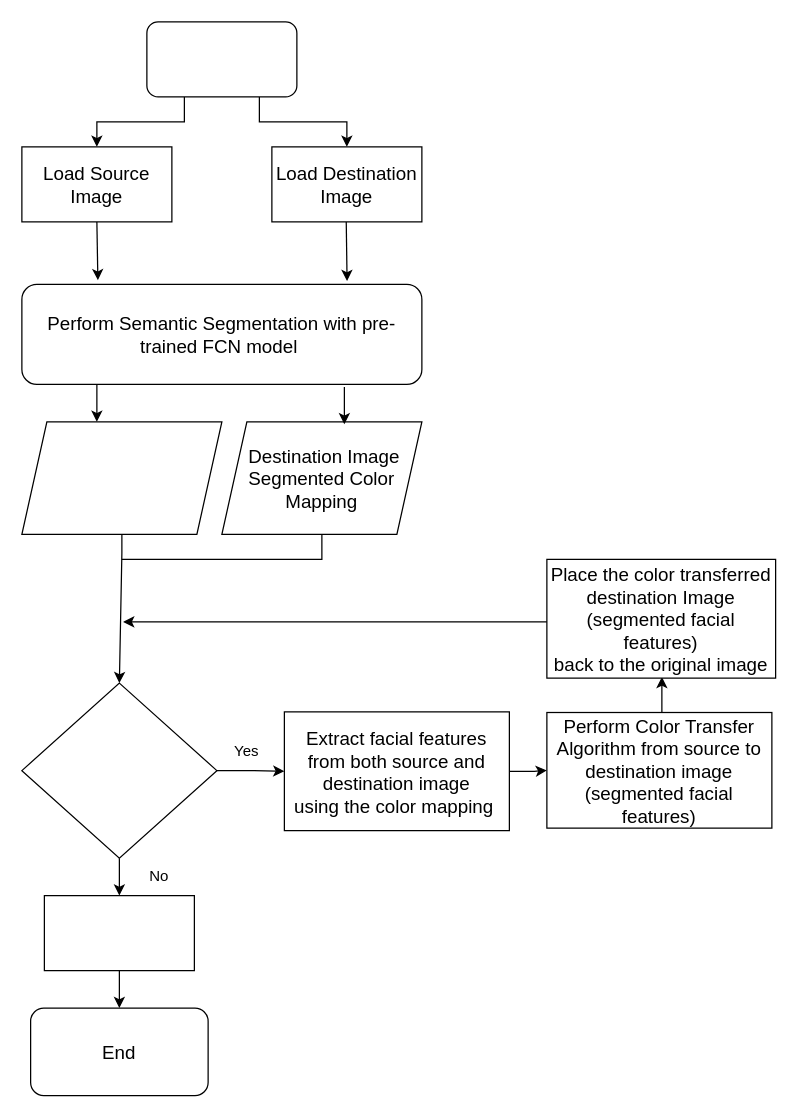
Some shapes in this 798 by 1118 pixel diagram are drawn without their labels. Each missing label, with the box of its shape:
Is there a selected facial features (target color) in the array: (21, 682, 217, 858)
Show the result image: (43, 894, 194, 971)
Source Image Segmented Color Mapping: (21, 421, 222, 534)
Start: (146, 21, 297, 97)
